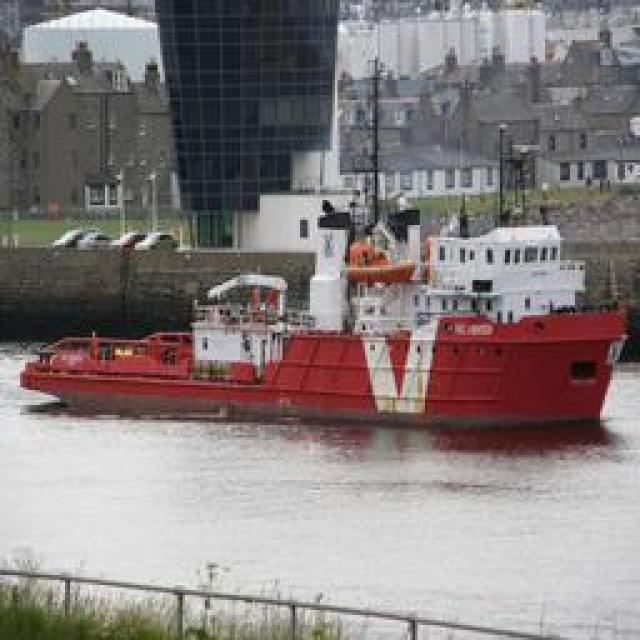CIV_Ship: (9, 245, 632, 433)
